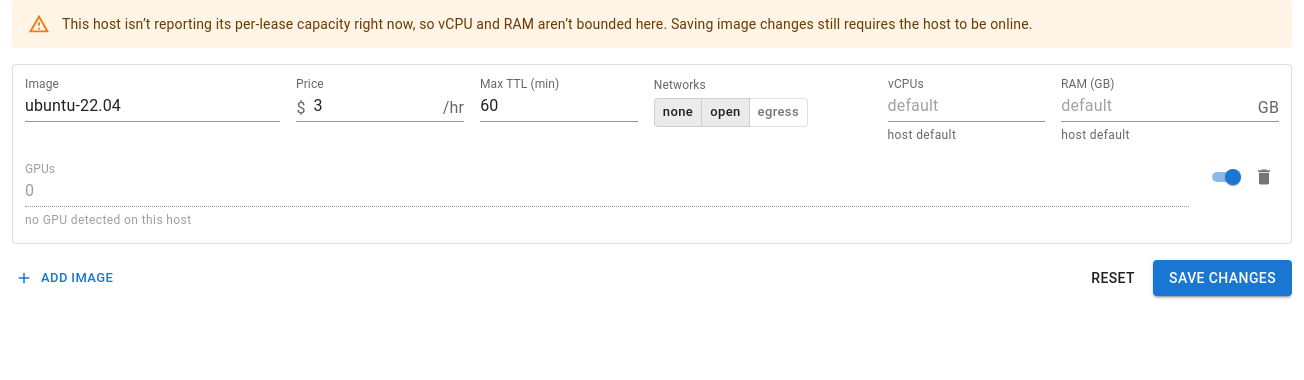
Test case: HostImagesEditor › surfaces a save error
Check: the field showing "ubuntu-22.04" is shown, box [25,93,280,122]
Click the button "Save changes": coordinates (1223, 278) [1153,260,1292,296]
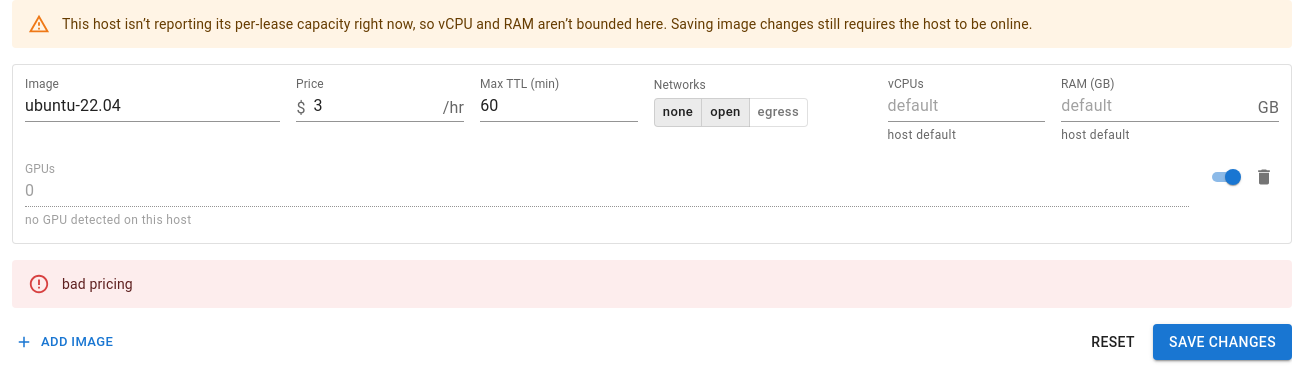
Check: the text "bad pricing" is shown, box [62,276,133,292]
